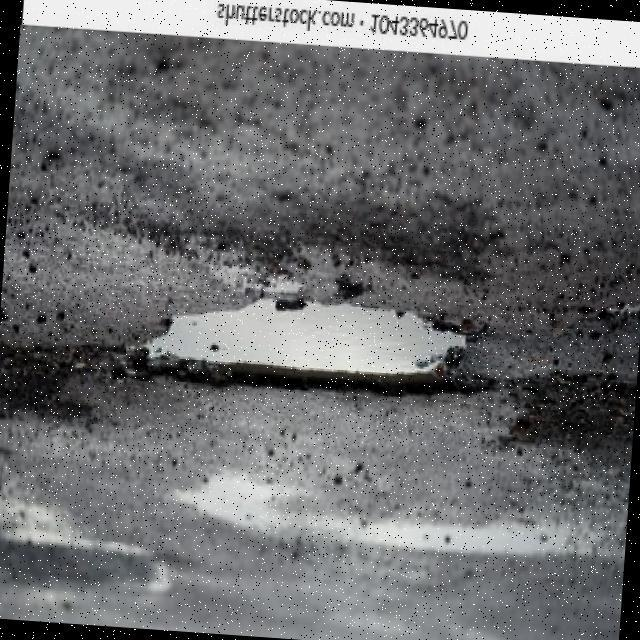Pothole: (129, 298, 493, 396)
